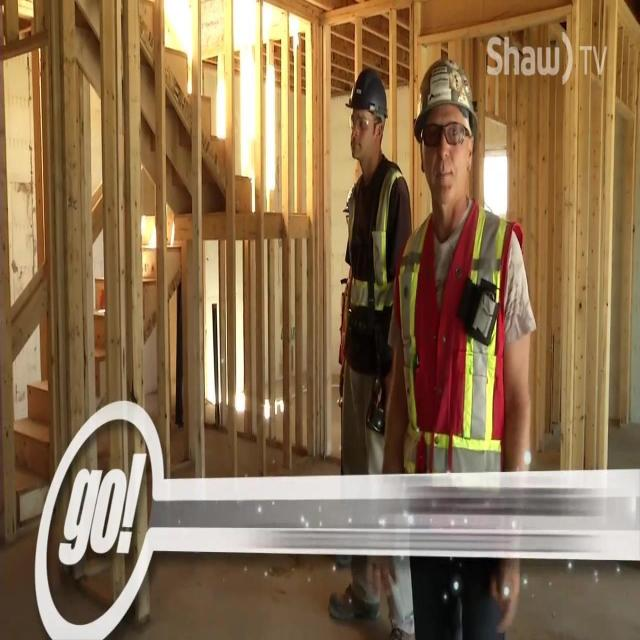Vest: (398, 195, 524, 473), (346, 164, 406, 310)
